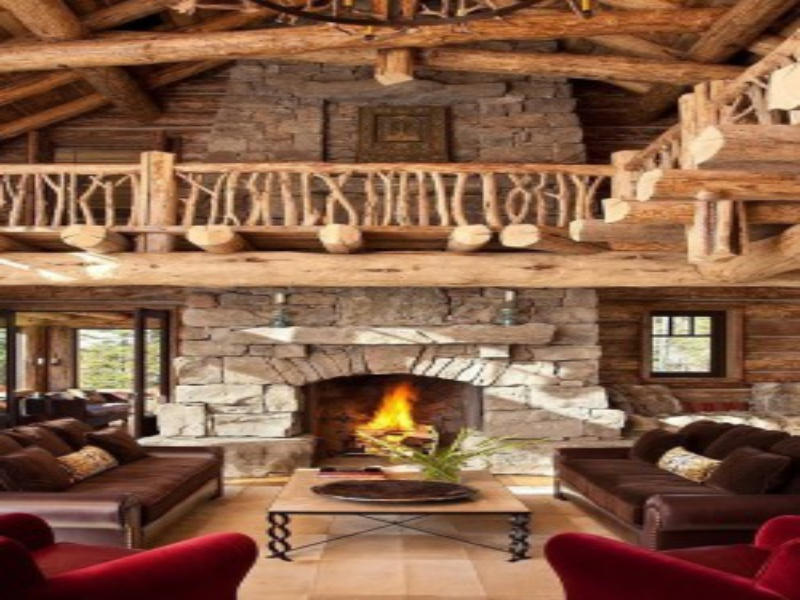fire: (358, 384, 428, 434)
